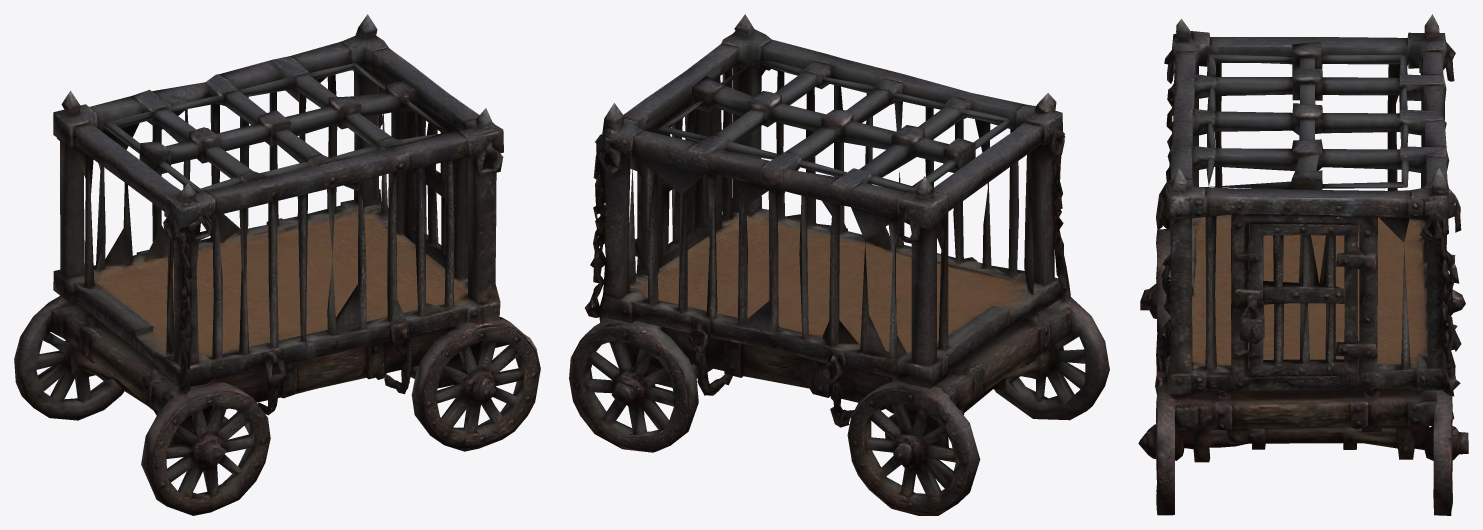
The model's file is cagecart.glb.
The picture shows the model from 3 angles, left to right: view 1: azimuth 30°, elevation 25°; view 2: azimuth 150°, elevation 25°; view 3: azimuth 270°, elevation 25°; orthographic projection. The views are drawn at different scales.
Parts seen in each view (by area): view 1: cagecart; view 2: cagecart; view 3: cagecart.
Boxes of the visible parts, <box> form: cagecart: <box>14,14,540,515</box>; cagecart: <box>569,14,1109,515</box>; cagecart: <box>1138,14,1468,515</box>.
Bounding box in the file's own units: 2.6 × 2.11 × 1.8.
1 material, 1 textured.
